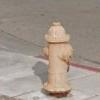Hydrant: (36, 9, 86, 100)
